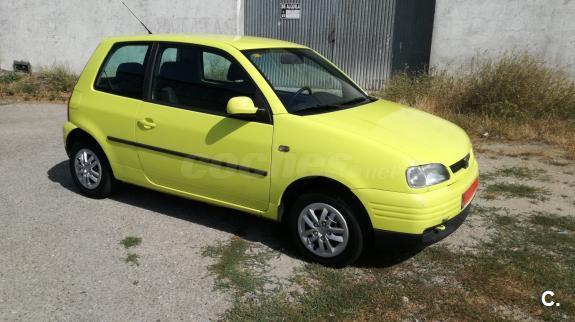car: (51, 25, 484, 264)
